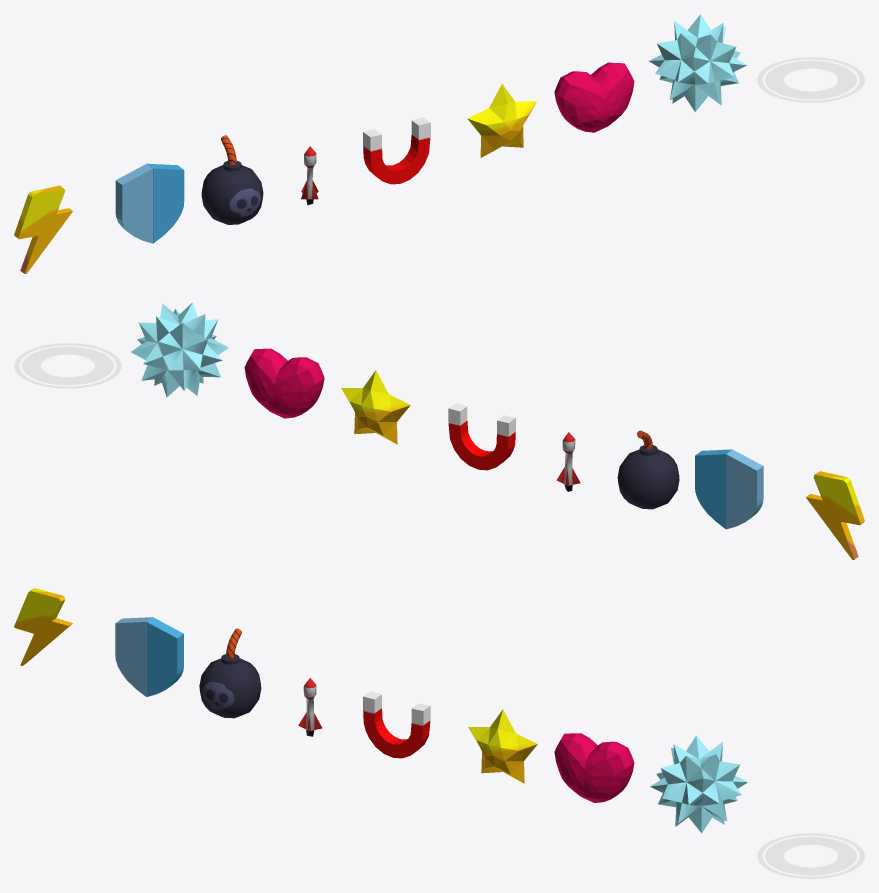
The model's file is items.glb.
The picture shows the model from 3 angles, top to bottom: view 1: azimuth 30°, elevation 25°; view 2: azimuth 150°, elevation 25°; view 3: azimuth 330°, elevation 25°; orthographic projection.
Parts seen in each view (by area): view 1: spike, shield, heart, bomb, ShockWave_small_NoCulling, thunderbolt, star, magnet, missile; view 2: spike, shield, heart, bomb, ShockWave_small_NoCulling, thunderbolt, star, magnet, missile; view 3: spike, shield, heart, bomb, ShockWave_small_NoCulling, star, magnet, thunderbolt, missile.
Part boxes in pixels (left/top/right/bottom): spike: left=649, top=14, right=746, bottom=111; shield: left=115, top=163, right=184, bottom=243; heart: left=554, top=62, right=634, bottom=132; bomb: left=201, top=135, right=263, bottom=224; ShockWave_small_NoCulling: left=757, top=57, right=864, bottom=102; thunderbolt: left=14, top=185, right=72, bottom=273; star: left=467, top=83, right=536, bottom=157; magnet: left=363, top=117, right=430, bottom=184; missile: left=301, top=146, right=318, bottom=205; spike: left=131, top=302, right=228, bottom=397; shield: left=695, top=449, right=763, bottom=529; heart: left=244, top=348, right=324, bottom=418; bomb: left=617, top=430, right=679, bottom=509; ShockWave_small_NoCulling: left=14, top=343, right=121, bottom=388; thunderbolt: left=806, top=471, right=864, bottom=559; star: left=341, top=370, right=410, bottom=444; magnet: left=448, top=403, right=515, bottom=470; missile: left=556, top=432, right=580, bottom=491; spike: left=650, top=735, right=747, bottom=833; shield: left=115, top=617, right=183, bottom=696; heart: left=554, top=733, right=634, bottom=802; bomb: left=199, top=628, right=261, bottom=718; ShockWave_small_NoCulling: left=757, top=833, right=864, bottom=878; star: left=468, top=709, right=537, bottom=783; magnet: left=363, top=691, right=430, bottom=758; thunderbolt: left=14, top=588, right=72, bottom=665; missile: left=298, top=678, right=322, bottom=736.
Size of the model in its own units: 133 by 12.73 by 14.79.
8 materials, 4 textured.
